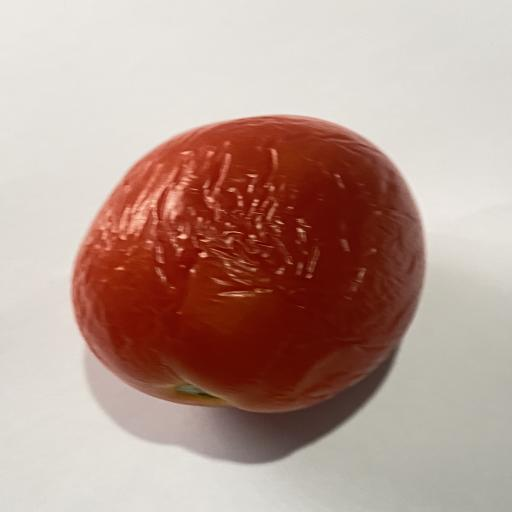spoiled: (208, 284, 210, 286)
